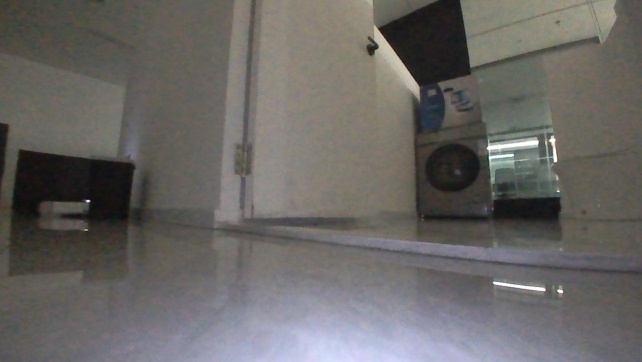door_anno: (231, 0, 383, 223)
toilet: (547, 145, 641, 223)
trash_can: (85, 152, 136, 220)
washing_machine: (412, 120, 495, 220)
